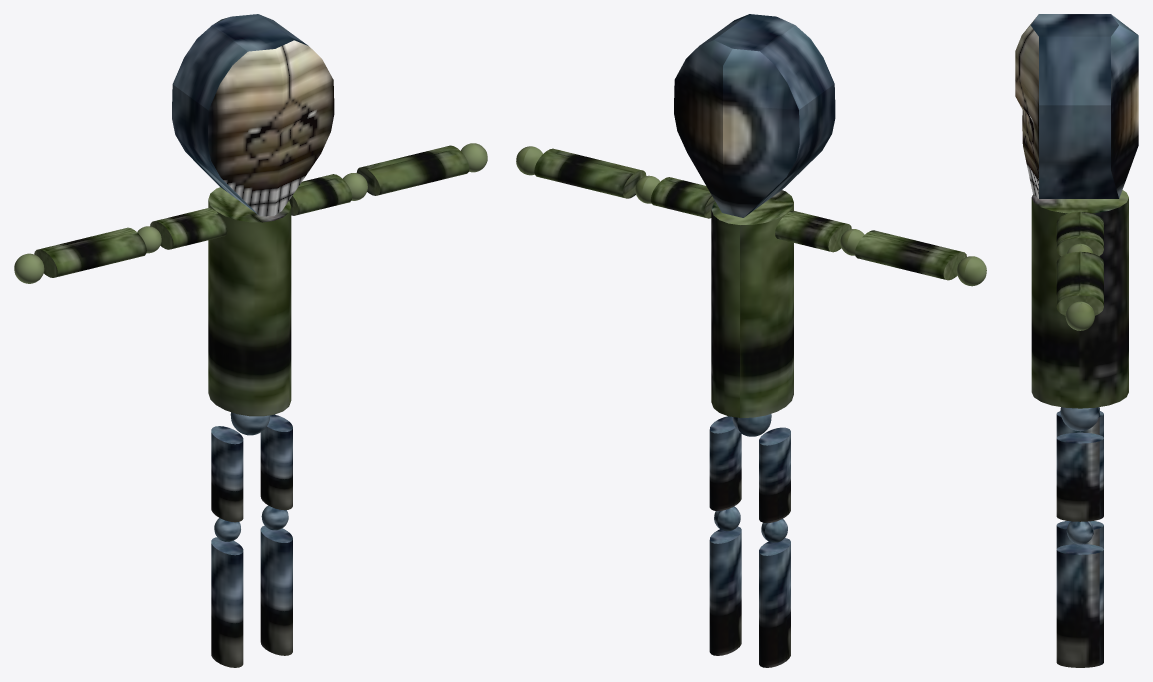
Rendered from skellydefault.fbx.
The picture shows the model from 3 angles, left to right: view 1: azimuth 30°, elevation 25°; view 2: azimuth 150°, elevation 25°; view 3: azimuth 270°, elevation 25°; orthographic projection.
Visible parts, largest first — view 1: Body1; view 2: Body1; view 3: Body1.
Part boxes in pixels (x1,y1,x2,y2): Body1: (14,14,487,667); Body1: (516,14,986,667); Body1: (1015,14,1138,667).
Bounding box in the file's own units: 18.98 × 24.03 × 4.3.
Materials: 1 (1 with a texture image).
